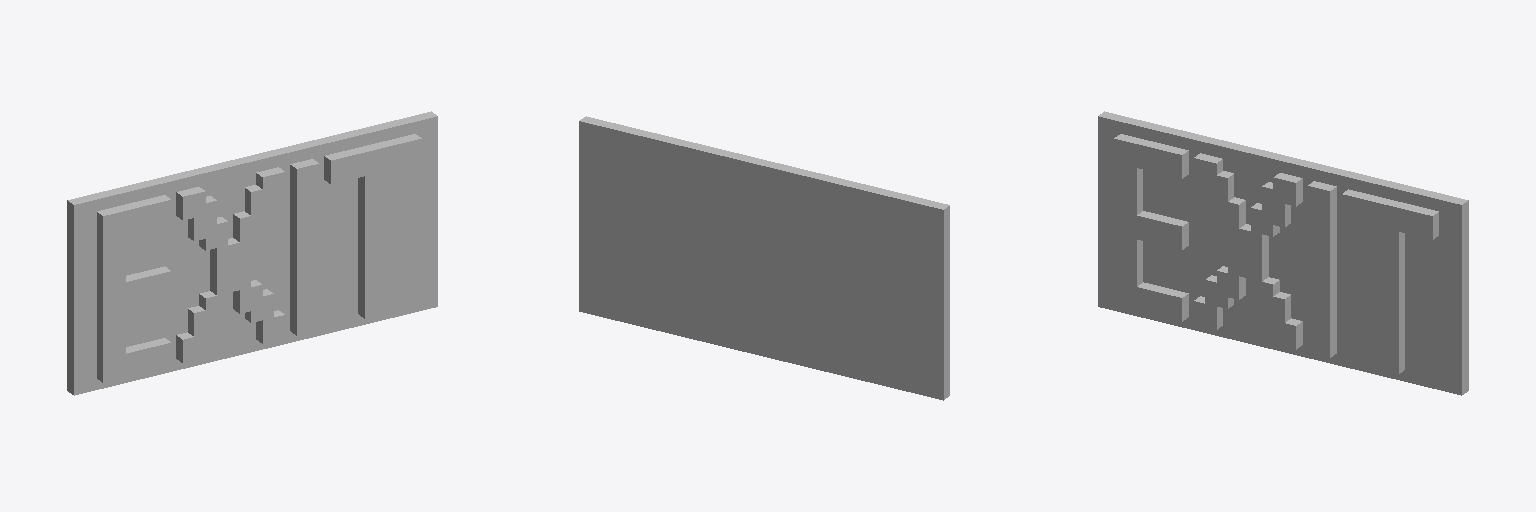
The model's file is ExitSign.obj.
The picture shows the model from 3 angles: view 1: azimuth 30°, elevation 25°; view 2: azimuth 150°, elevation 25°; view 3: azimuth 330°, elevation 25°; orthographic projection.
Visible parts, largest first — view 1: object 1; view 2: object 1; view 3: object 1.
Part boxes in pixels (left/top/right/bottom): object 1: left=67, top=111, right=437, bottom=395; object 1: left=579, top=116, right=949, bottom=400; object 1: left=1098, top=111, right=1468, bottom=395.
Bounding box in the file's own units: 3.2 × 1.6 × 0.2.